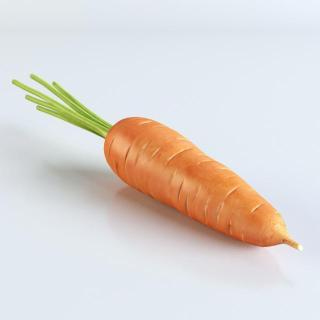carrot: (102, 115, 305, 253)
